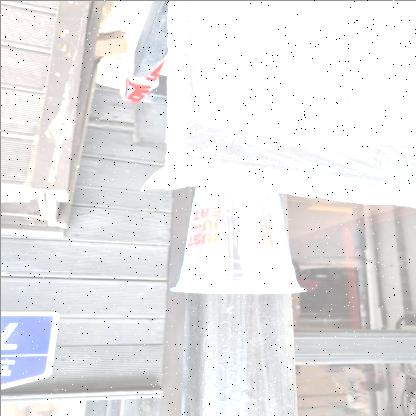Others: (169, 170, 305, 294)
